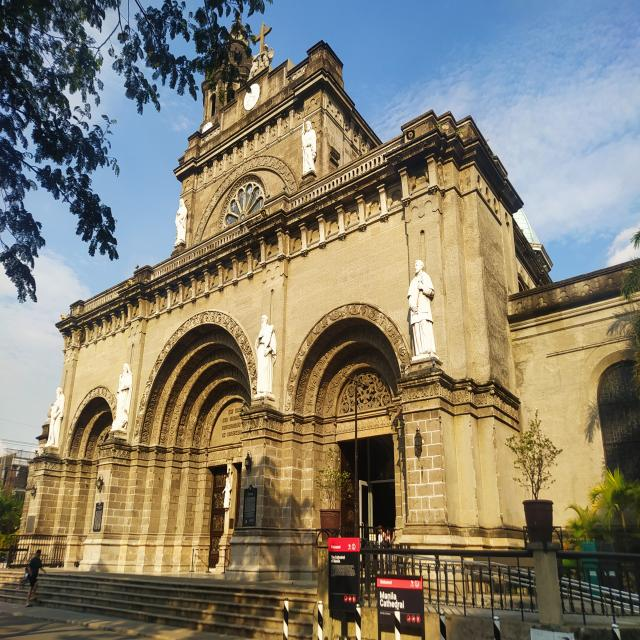Manila Cathedral: (3, 17, 640, 640)
